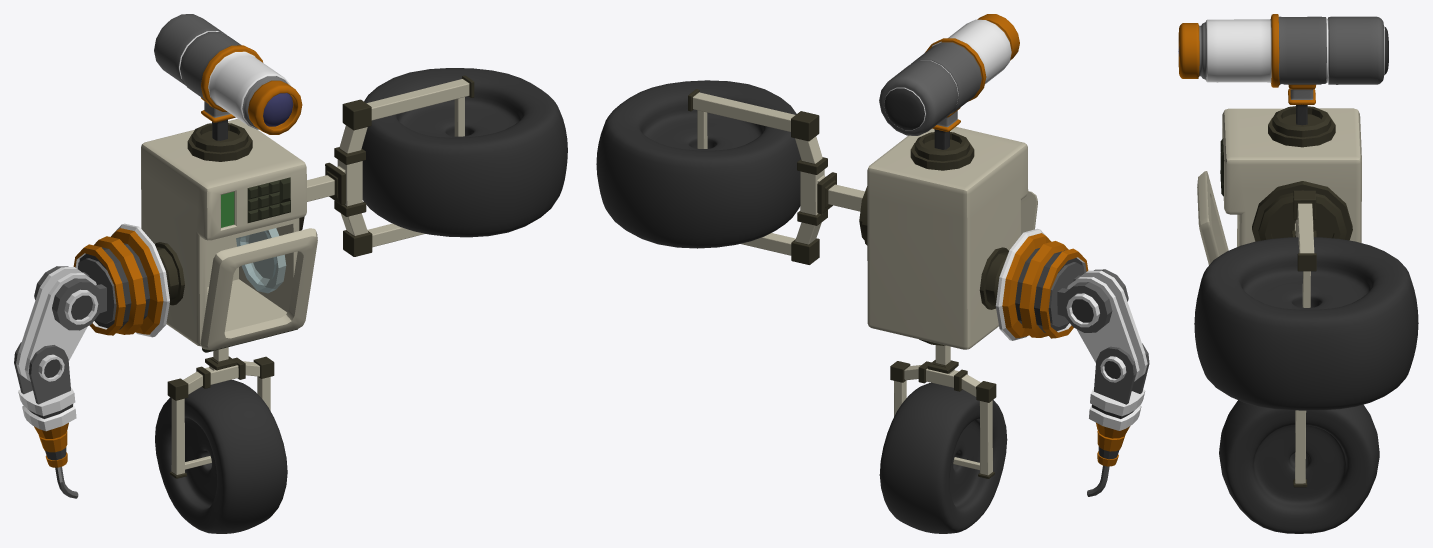
File: npcRobo11.fbx
The picture shows the model from 3 angles, left to right: view 1: azimuth 30°, elevation 25°; view 2: azimuth 150°, elevation 25°; view 3: azimuth 270°, elevation 25°; orthographic projection. The views are drawn at different scales.
Visible parts, largest first — view 1: npcRobo11; view 2: npcRobo11; view 3: npcRobo11.
Part boxes in pixels (x1,y1,x2,y2): npcRobo11: (14,14,567,533); npcRobo11: (596,14,1149,533); npcRobo11: (1178,14,1418,533).
Size of the model in its own units: 214 by 187 by 79.91.
